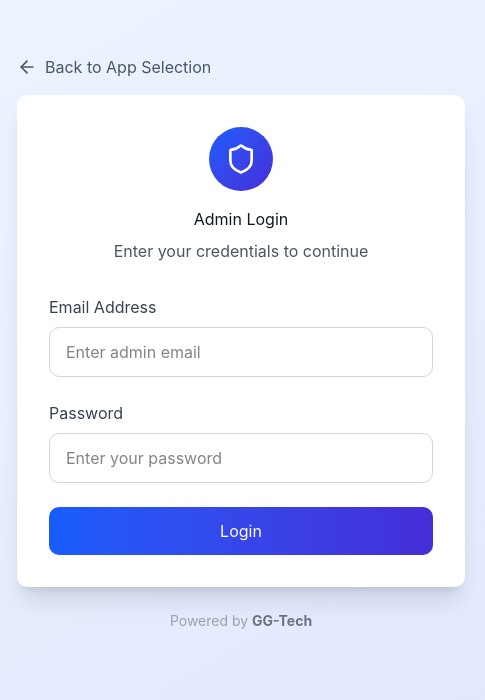
it: AdminLoginScreen › role checks › refuses an employee account, signs it out and stays on the login screen
Type "admin@arka.test" into the field labelled "Email Address" at (241, 352), box [49,327,433,377]
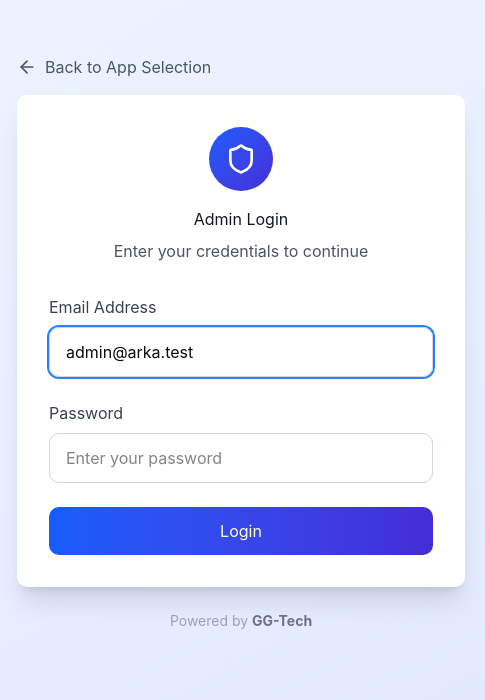
Type "correct-horse" into the password field labelled "Password" at (241, 458), box [49,433,433,483]
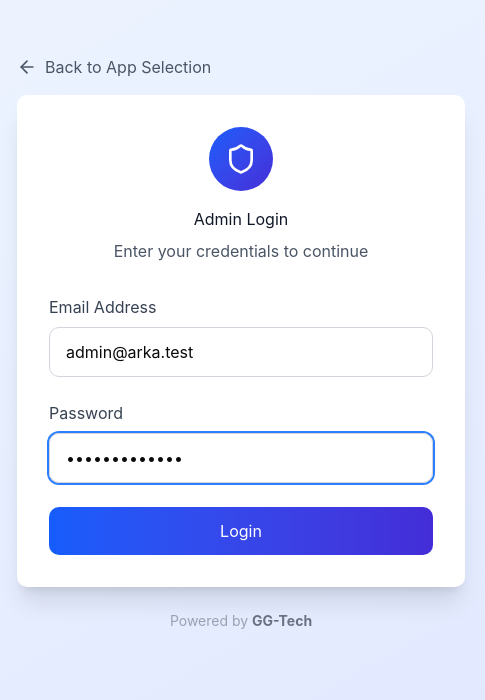
Click the button "Login" at (241, 531), box [49,507,433,555]
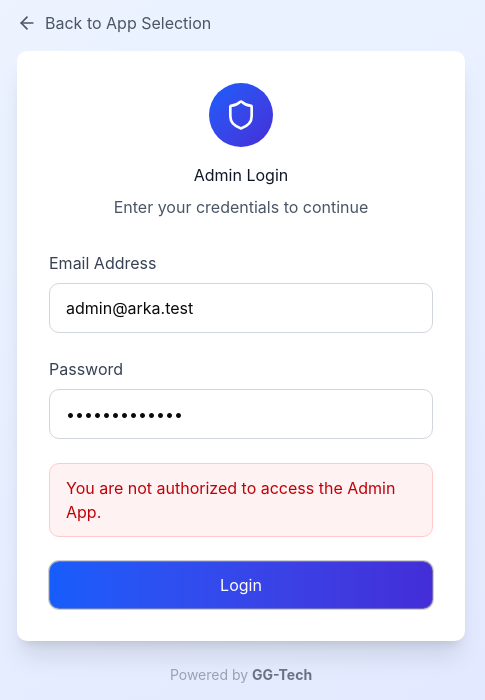
Now the text "You are not authorized to access the Admin App." is shown, box [49,463,433,537]
